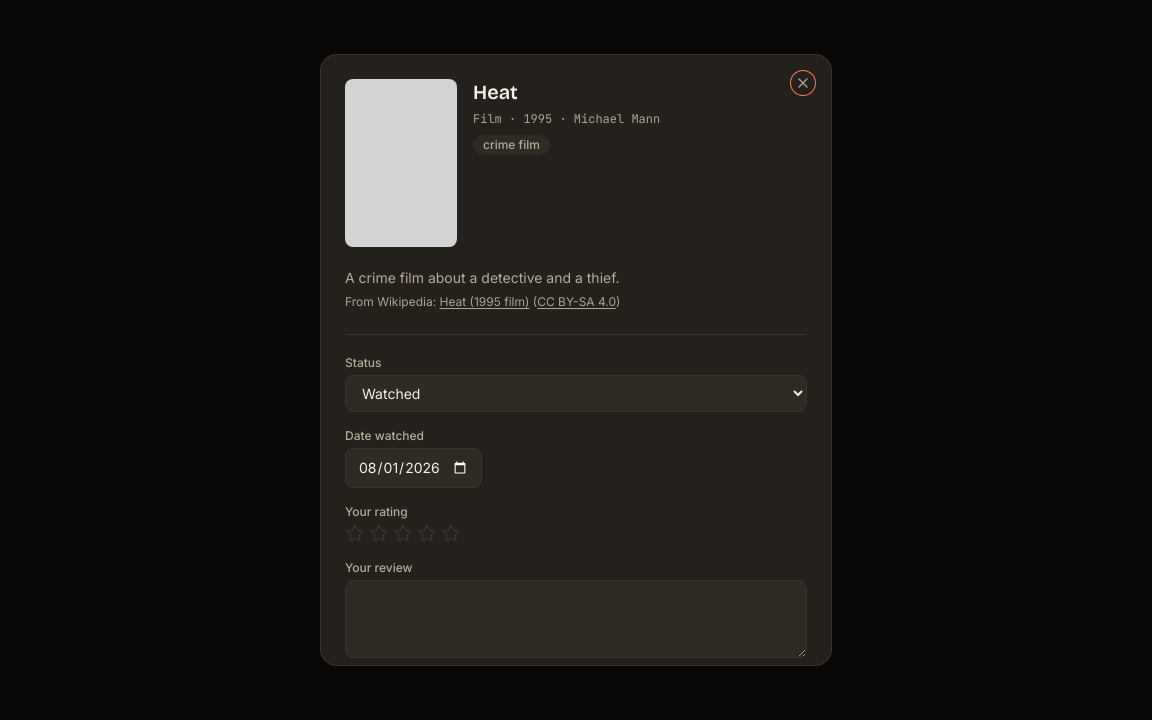
it: TitleDetailModal › shows the server detail when a save is refused
This screenshot has width=1152, height=720.
Type "Tense." into the text box labelled "Your review" at (576, 619), box [345,580,807,658]
(page scrolled)
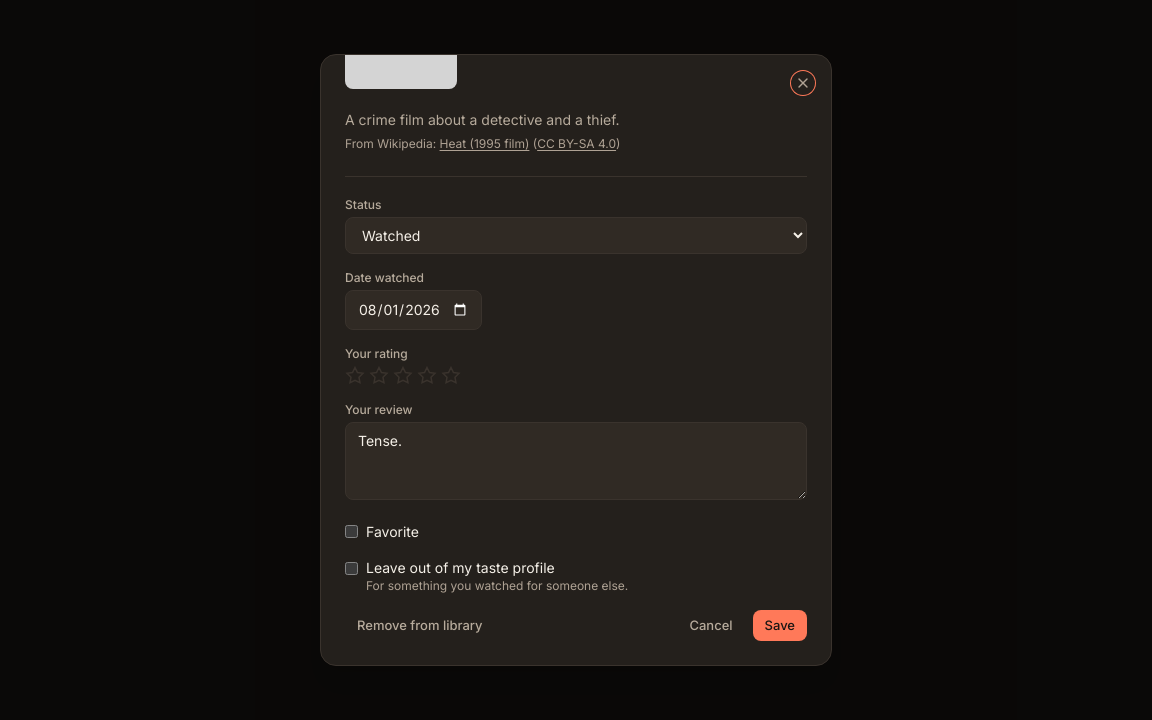
Click the button "Save" at (780, 626), box [752,610,807,641]
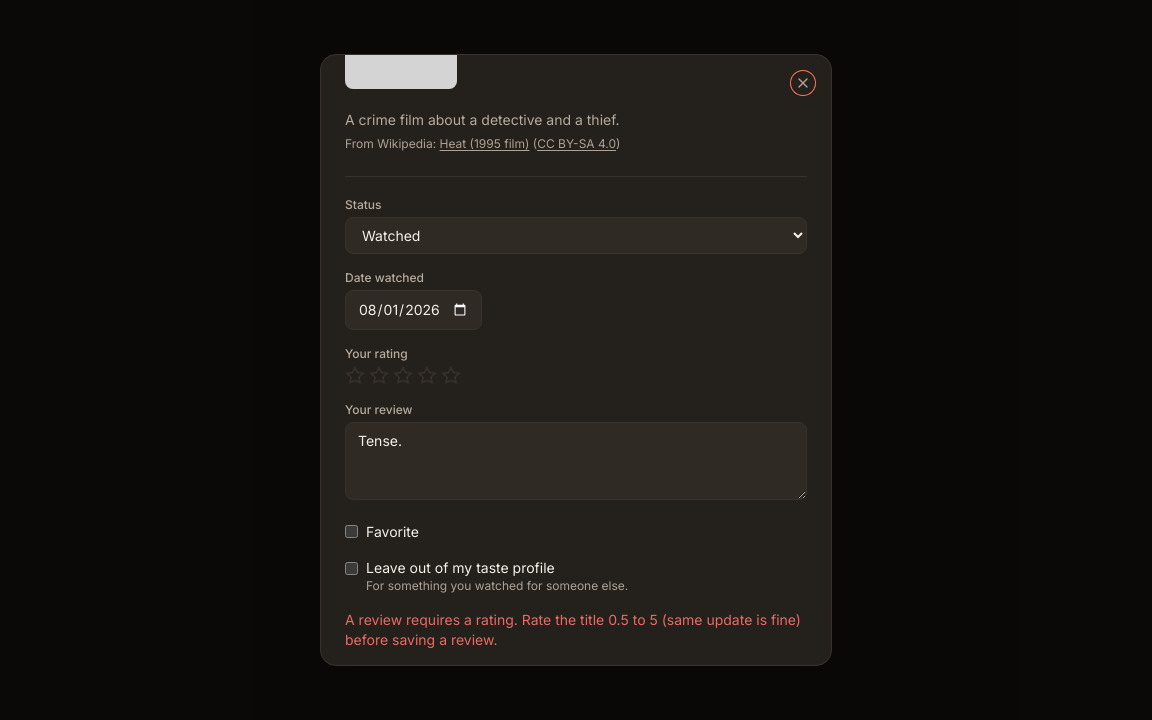
Expected: the message shows "A review requires a rating.", [345,611,801,648]
